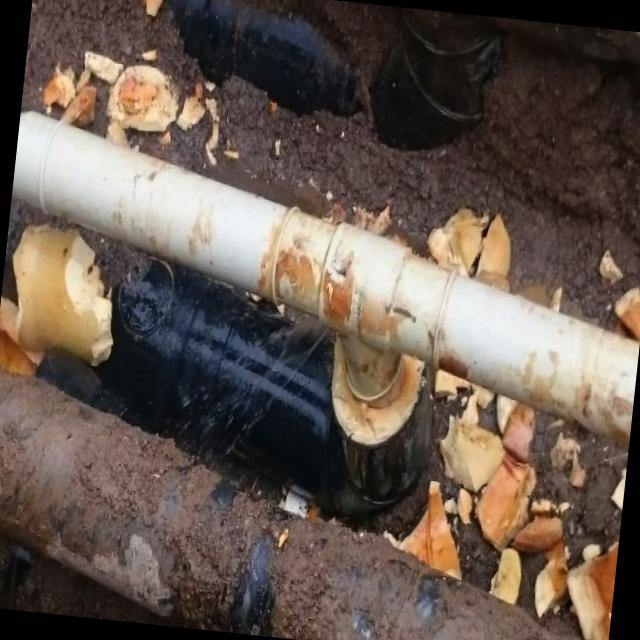gas: (12, 117, 639, 442)
